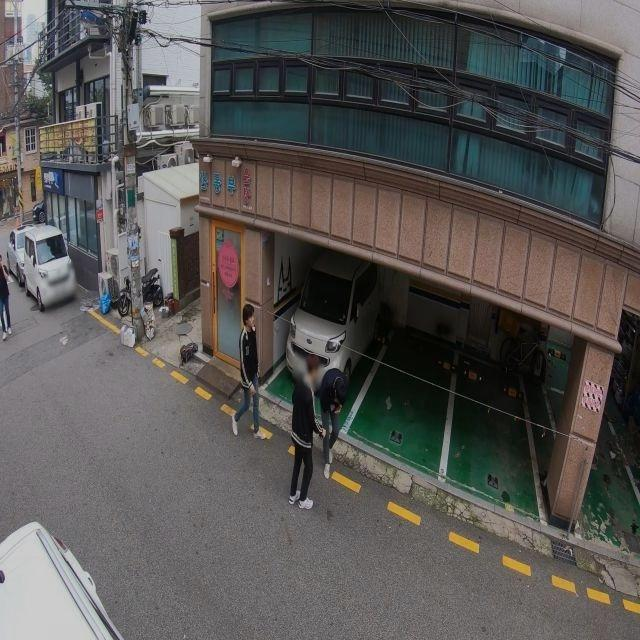fight: (285, 356, 342, 508)
non-fight: (230, 306, 263, 434)
